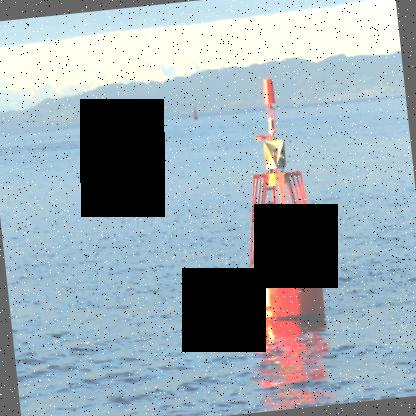Buoy: (220, 68, 332, 336)
